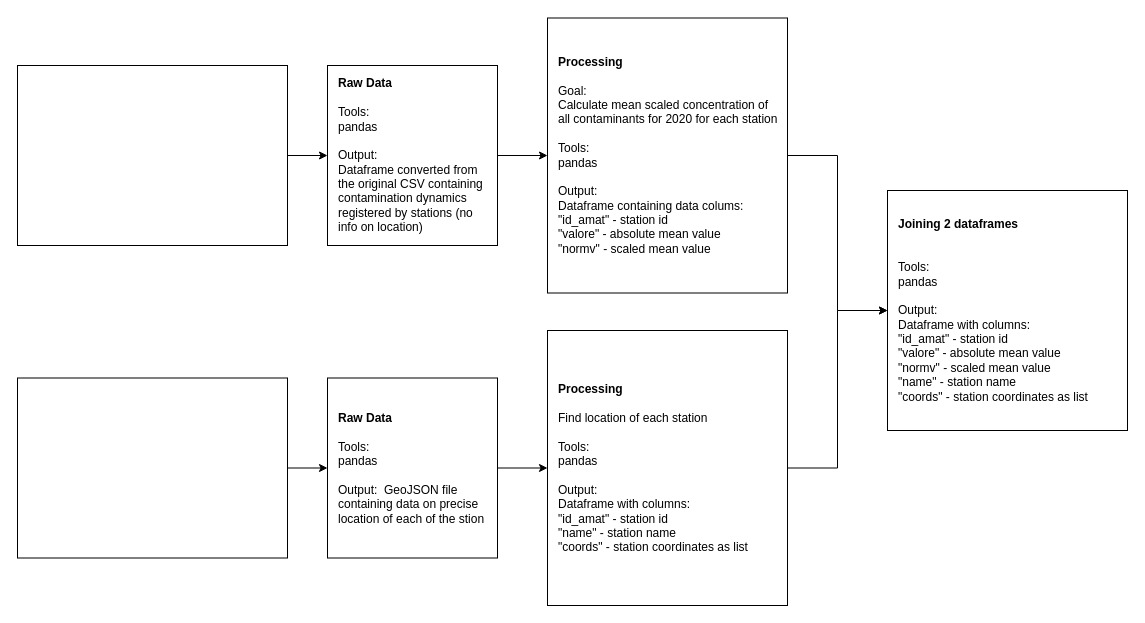
Some shapes in this 1145 by 623 pixel diagram are drawn without their labels. Each missing label, with the centre of its shape:
Source Official data about station location https://dati.comune.milano.it/: (152,467)
Source Official data from https://dati.comune.milano.it/: (152,155)
